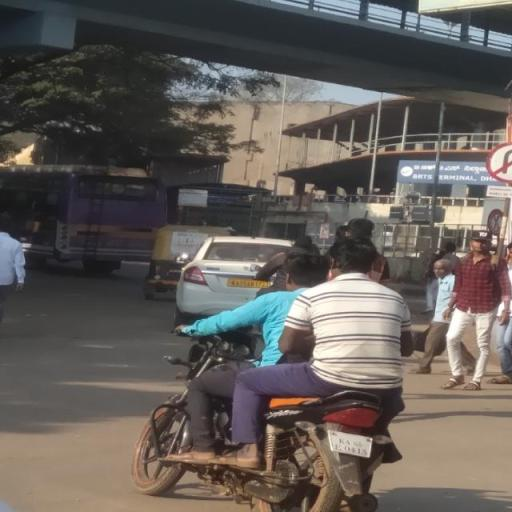bike: (124, 232, 431, 512)
numberplate: (328, 432, 380, 462)
withouthelmet: (284, 254, 328, 286), (332, 241, 376, 273)
